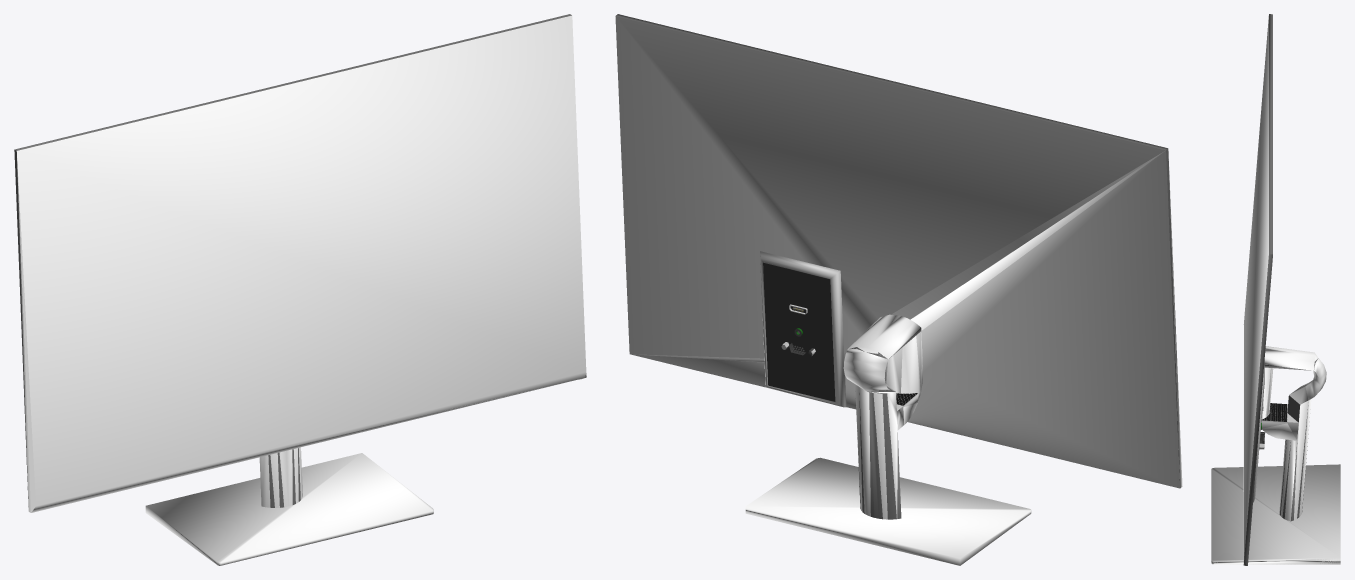
The model's file is 17_+Desktop+LED+Monitor_smaller.fbx.
3 views of the same model, side by side, from view 1: azimuth 30°, elevation 25°; view 2: azimuth 150°, elevation 25°; view 3: azimuth 270°, elevation 25° (orthographic). The views are drawn at different scales.
Parts seen in each view (by area): view 1: Composant_1_1; view 2: Composant_1_1, HDMI_and_VGA___3_5mm_Stereo_Wall_Plate1, Group_28_1; view 3: Composant_1_1, Group_28_1.
Boxes of the visible parts, <box> form: Composant_1_1: <box>14,14,586,565</box>; Composant_1_1: <box>615,14,1182,565</box>; HDMI_and_VGA___3_5mm_Stereo_Wall_Plate1: <box>763,262,835,401</box>; Group_28_1: <box>760,251,846,407</box>; Composant_1_1: <box>1211,14,1340,565</box>; Group_28_1: <box>1253,361,1264,502</box>.
Bounding box in the file's own units: 18.6 × 13.88 × 4.24.
